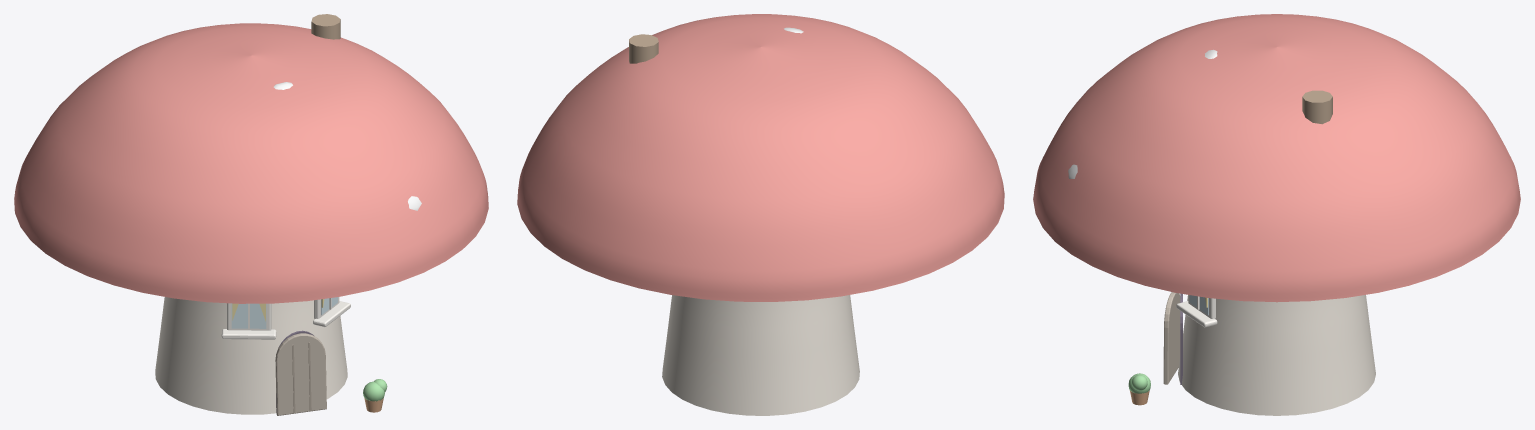
Rendered from building_forest_L05.glb.
The picture shows the model from 3 angles, left to right: view 1: azimuth 30°, elevation 25°; view 2: azimuth 150°, elevation 25°; view 3: azimuth 270°, elevation 25°; orthographic projection. The views are drawn at different scales.
Parts seen in each view (by area): view 1: Body, forest_L5; view 2: Body; view 3: Body, forest_L5.
Part boxes in pixels (x1=…): Body: x1=14, y1=14, x2=488, y2=415; forest_L5: x1=363, y1=379, x2=387, y2=412; Body: x1=517, y1=14, x2=1004, y2=415; Body: x1=1033, y1=14, x2=1520, y2=415; forest_L5: x1=1128, y1=373, x2=1150, y2=405.
Size of the model in its own units: 19.2 by 14.24 by 19.2.
